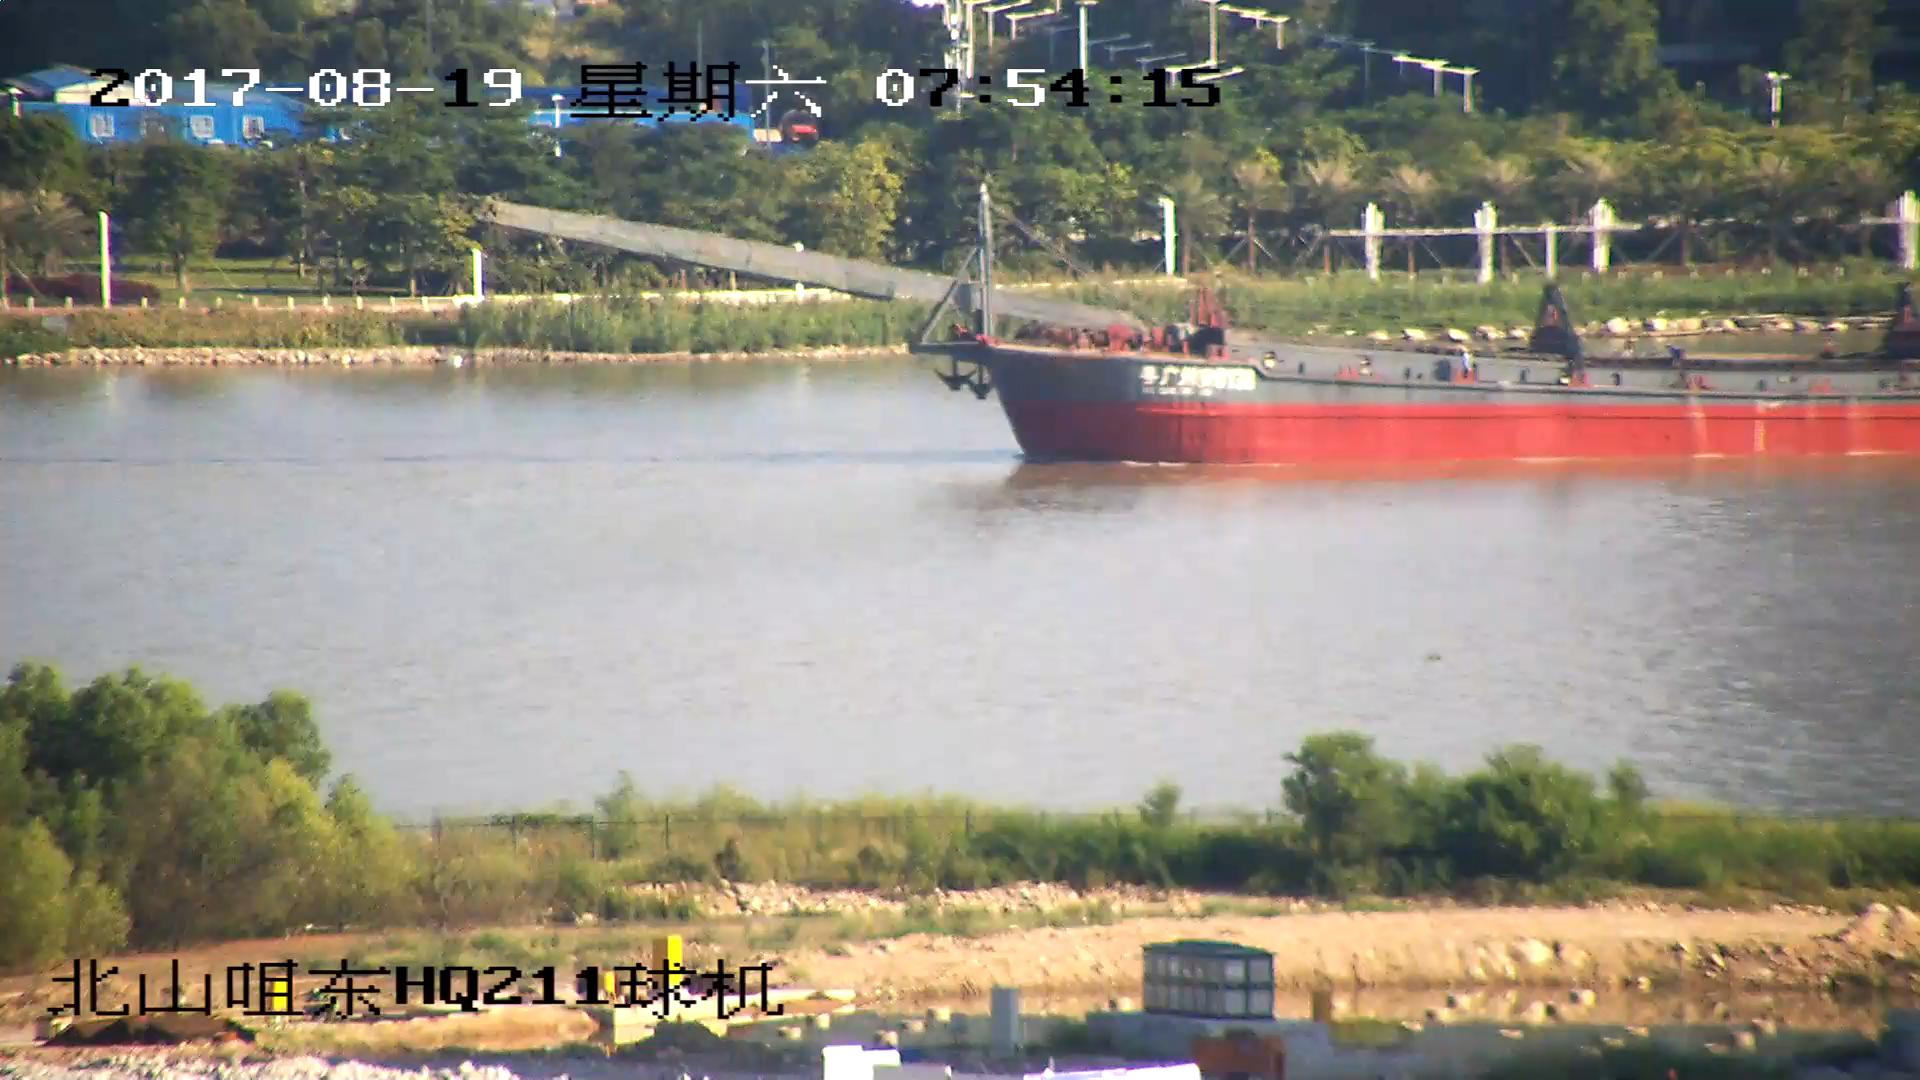bulk cargo carrier: (487, 204, 1920, 470)
